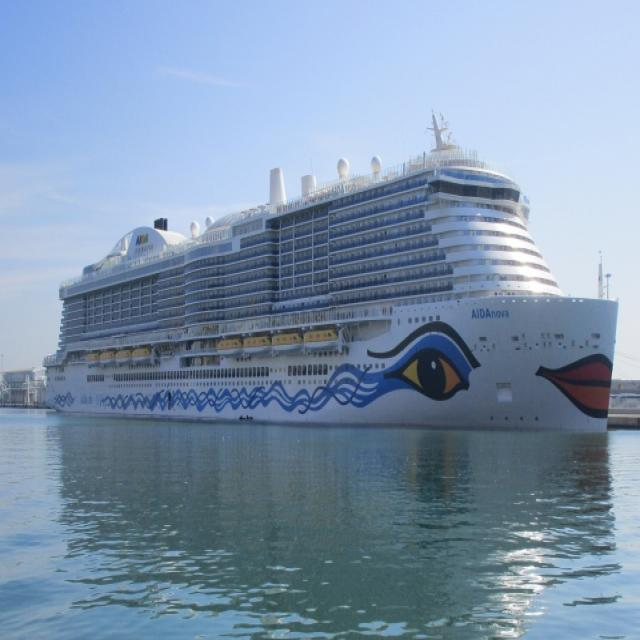cruises: (42, 105, 623, 444)
